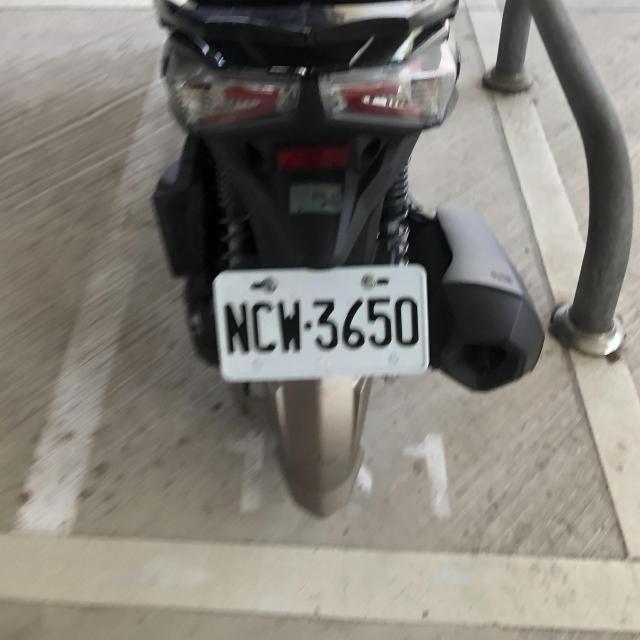W: (205, 247, 437, 394)
